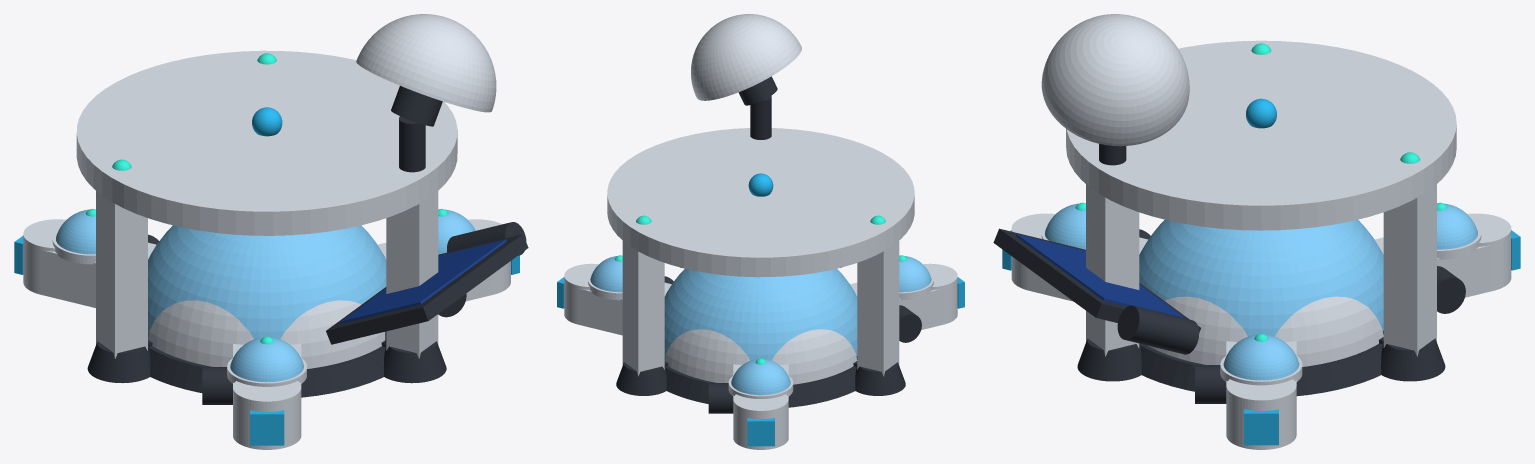
File: spaceport.obj
3 renders of one model, left to right at view 1: azimuth 30°, elevation 25°; view 2: azimuth 150°, elevation 25°; view 3: azimuth 270°, elevation 25°, orthographic. The views are drawn at different scales.
Parts seen in each view (by area): view 1: spaceport; view 2: spaceport; view 3: spaceport.
Boxes of the visible parts, box(x1,y1,x2,y2) form: spaceport: box(14, 14, 528, 449); spaceport: box(557, 14, 964, 449); spaceport: box(993, 14, 1520, 449).
Size of the model in its own units: 25.4 by 19.91 by 26.99.
